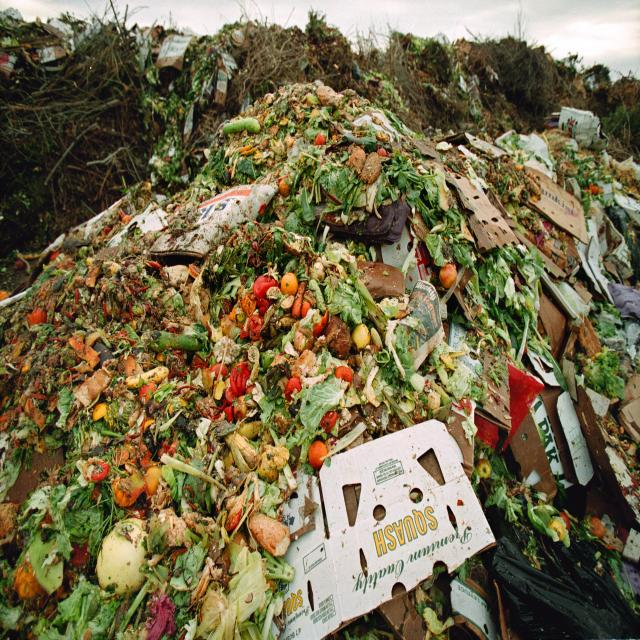food_waste: (12, 192, 620, 613), (153, 104, 615, 508), (46, 277, 270, 625), (297, 195, 450, 274)
